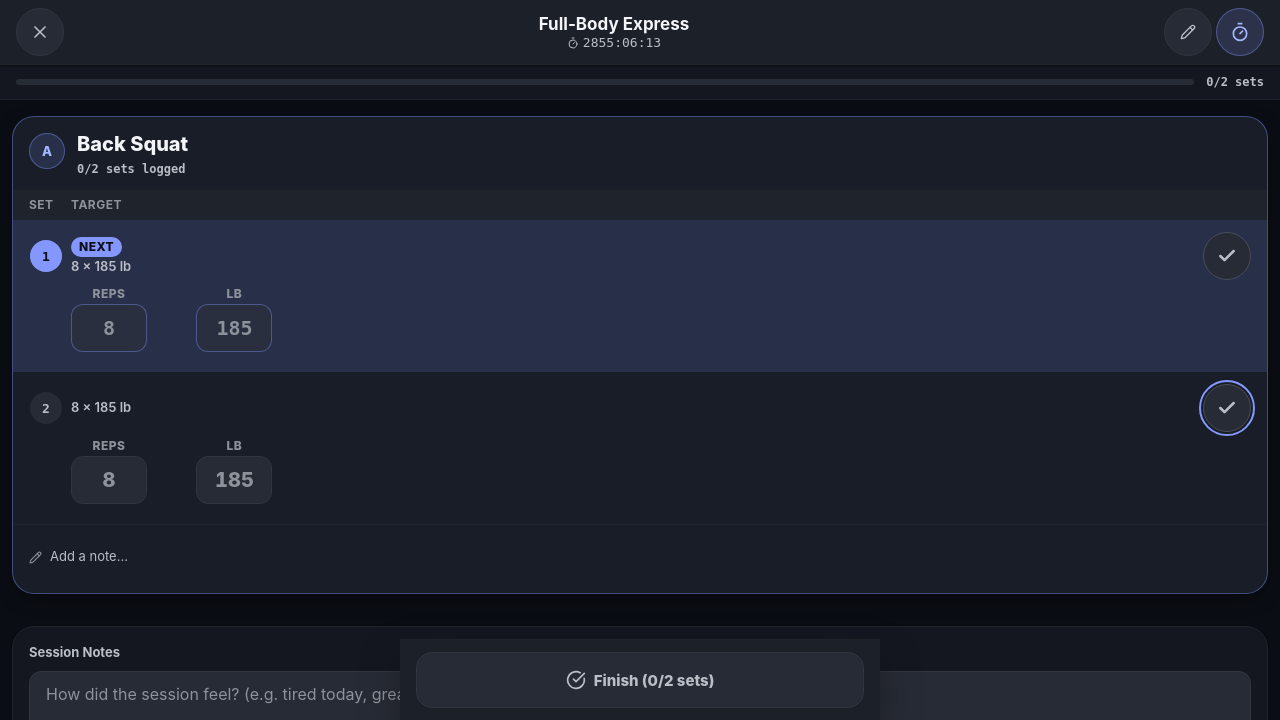
Scenario: ActiveWorkoutView › starts rest without blocking the next set or taking focus away from logging
This screenshot has width=1280, height=720.
Click the button named "Mark complete" in the row of "Next": (1227, 256) [1203,232,1251,280]
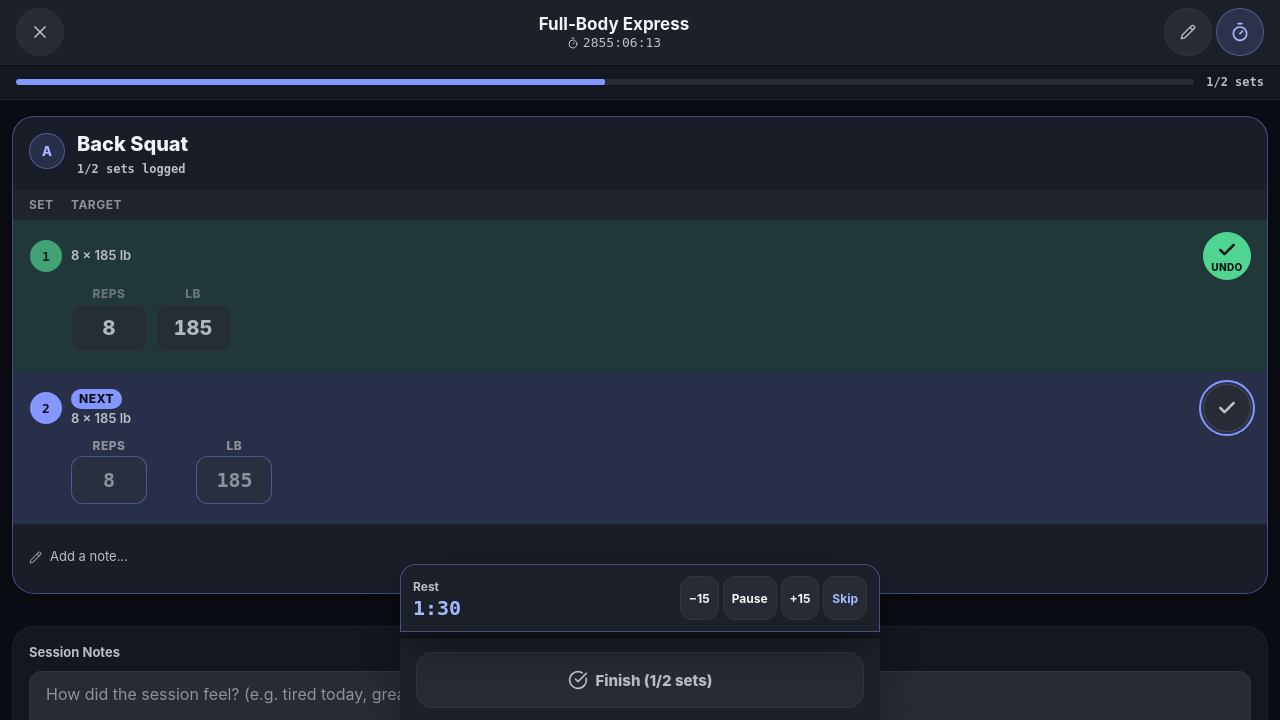
Result: the element named "Rest timer" is shown at [400,564,880,632]
